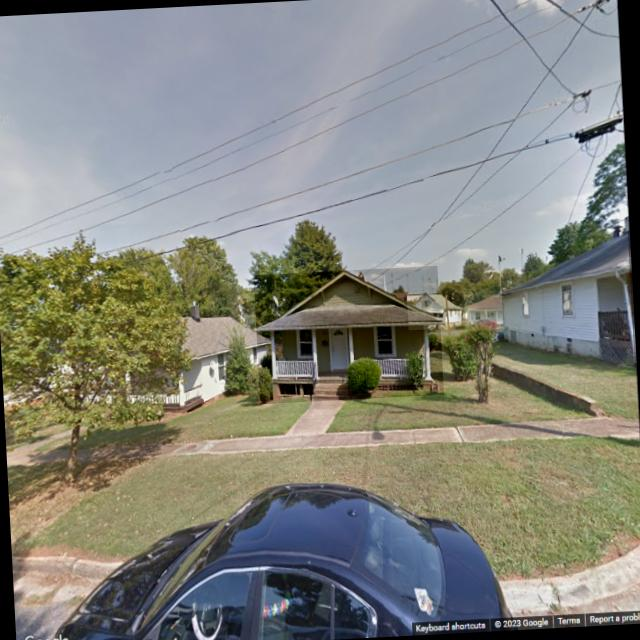House: (253, 266, 444, 404), (75, 296, 274, 420), (499, 232, 636, 374), (406, 294, 464, 330), (464, 290, 506, 332)
